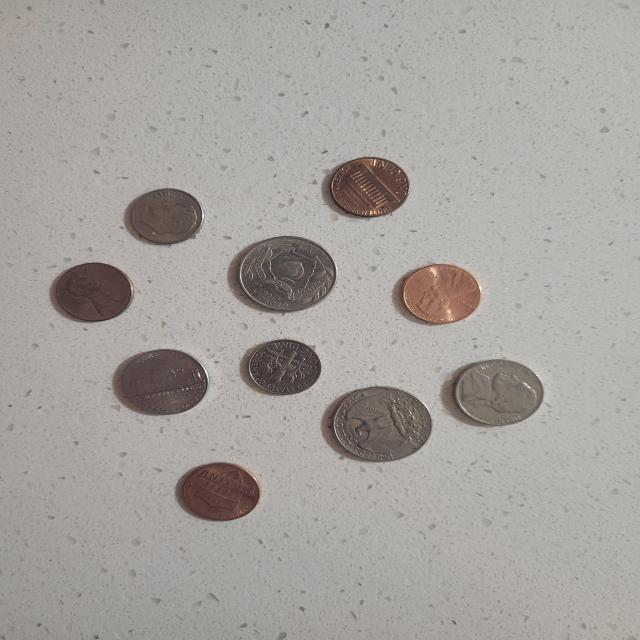Dime: (124, 184, 207, 248), (246, 336, 326, 396)
Nickel: (117, 345, 211, 417), (452, 358, 547, 428)
Penny: (51, 259, 138, 326), (325, 154, 413, 220), (175, 456, 263, 522), (396, 260, 484, 324)
Quarter: (329, 380, 436, 462), (235, 233, 339, 315)
